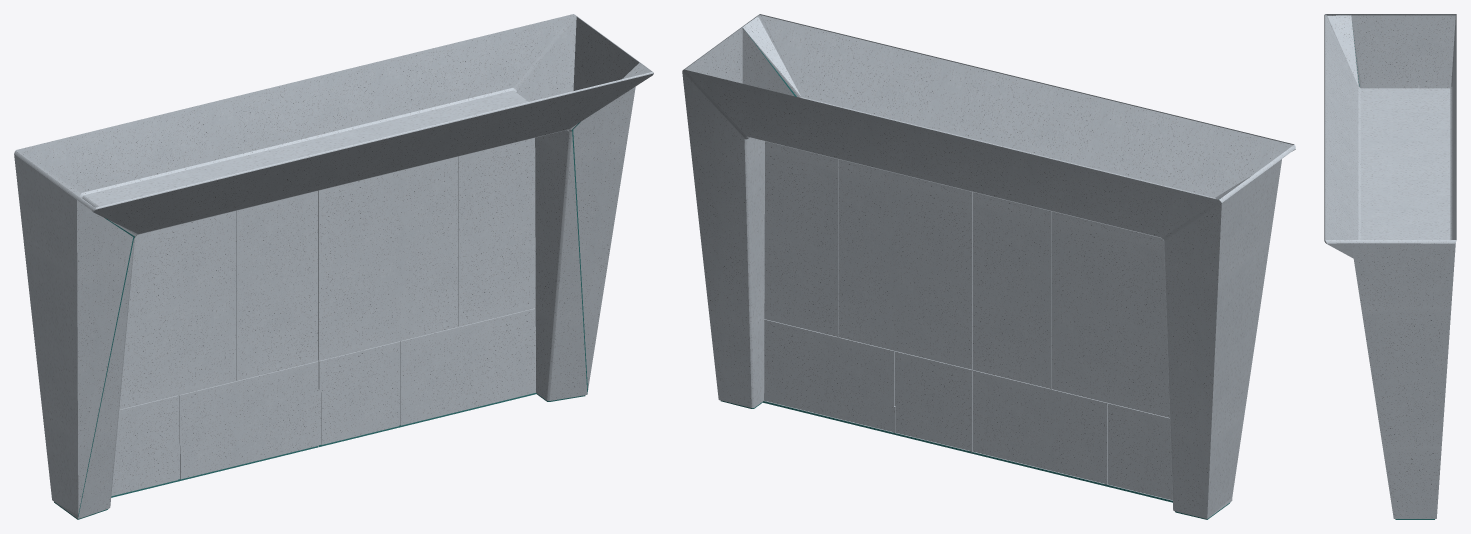
3 views of the same model, side by side, from view 1: azimuth 30°, elevation 25°; view 2: azimuth 150°, elevation 25°; view 3: azimuth 270°, elevation 25° (orthographic). The views are drawn at different scales.
Visible parts, largest first — view 1: M_W_006_a_18x12; view 2: M_W_006_a_18x12; view 3: M_W_006_a_18x12.
Boxes of the visible parts, x1=… form: M_W_006_a_18x12: x1=14, y1=14, x2=653, y2=519; M_W_006_a_18x12: x1=682, y1=14, x2=1295, y2=519; M_W_006_a_18x12: x1=1324, y1=14, x2=1456, y2=519.
Bounding box in the file's own units: 20.23 × 12 × 4.96.
